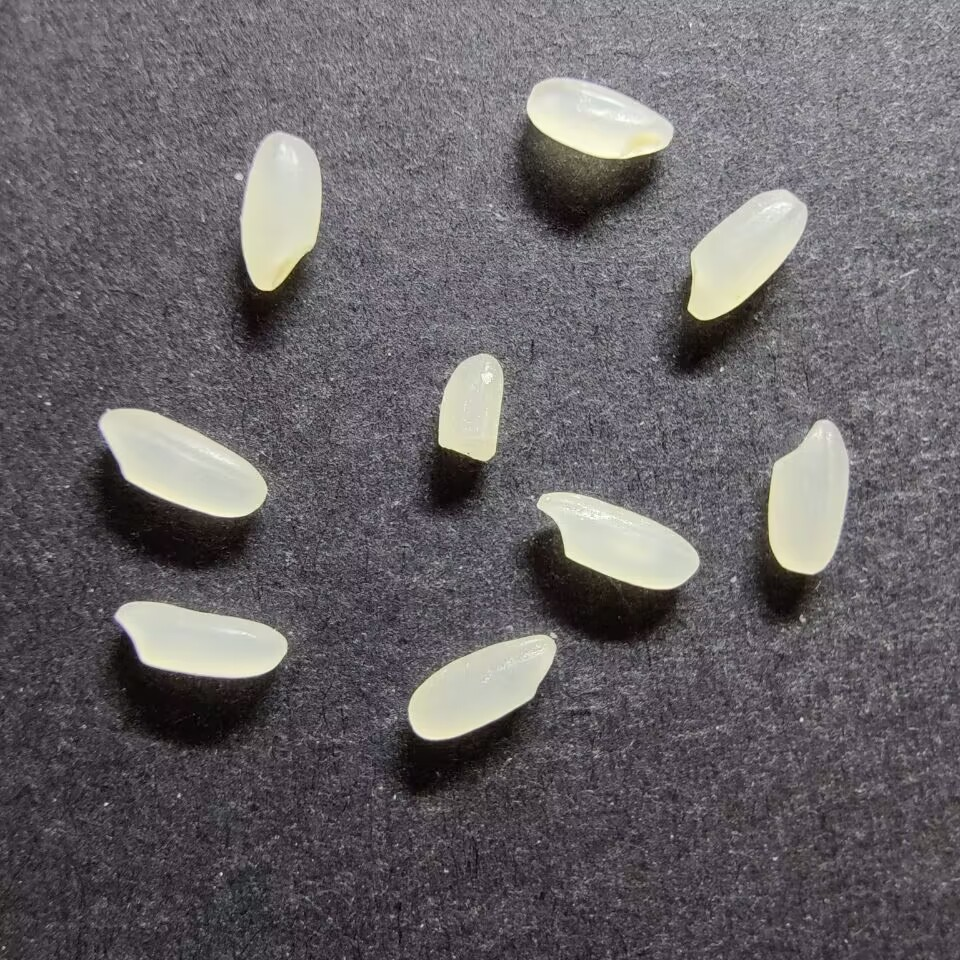broken: (435, 352, 505, 461)
rice: (96, 407, 268, 519), (533, 490, 702, 592), (405, 633, 558, 742), (685, 188, 810, 321), (112, 600, 289, 680), (238, 129, 323, 292), (765, 418, 849, 575), (524, 76, 673, 160)
